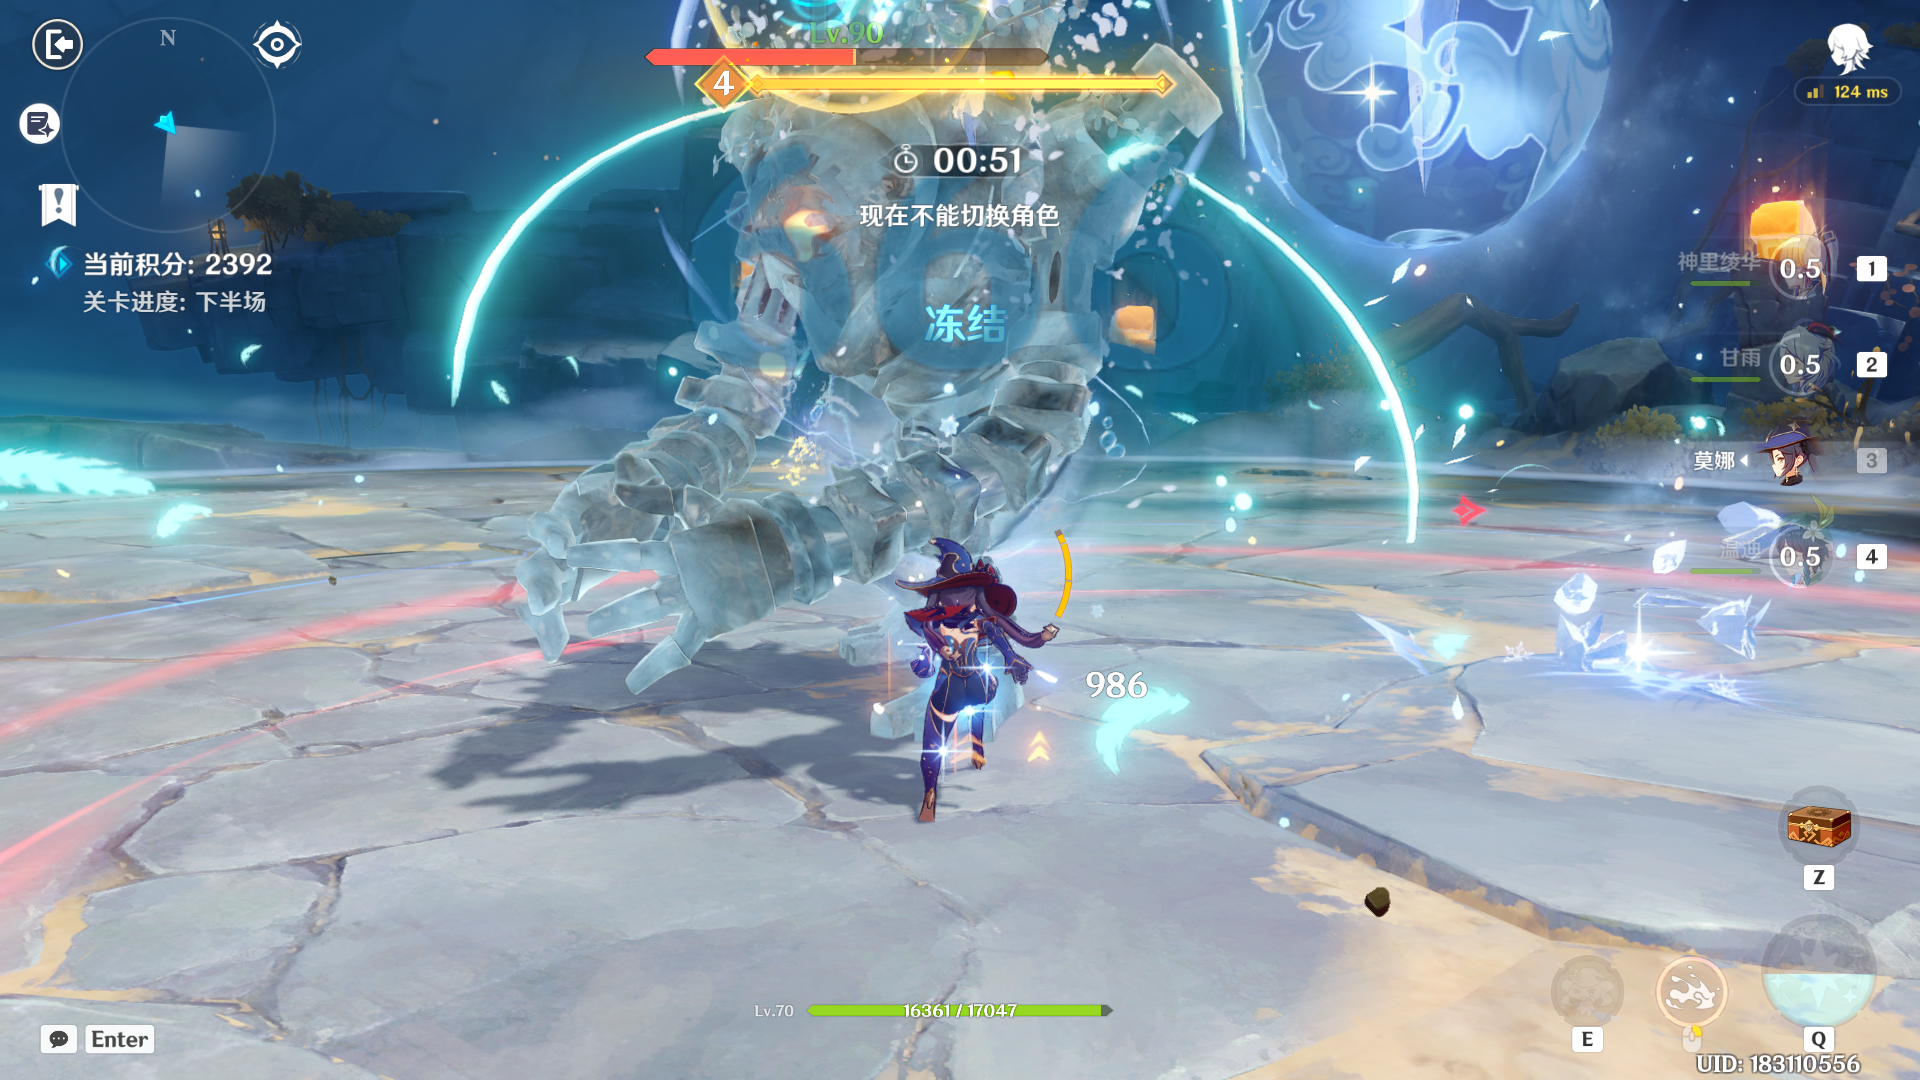character: (869, 496, 1079, 823)
